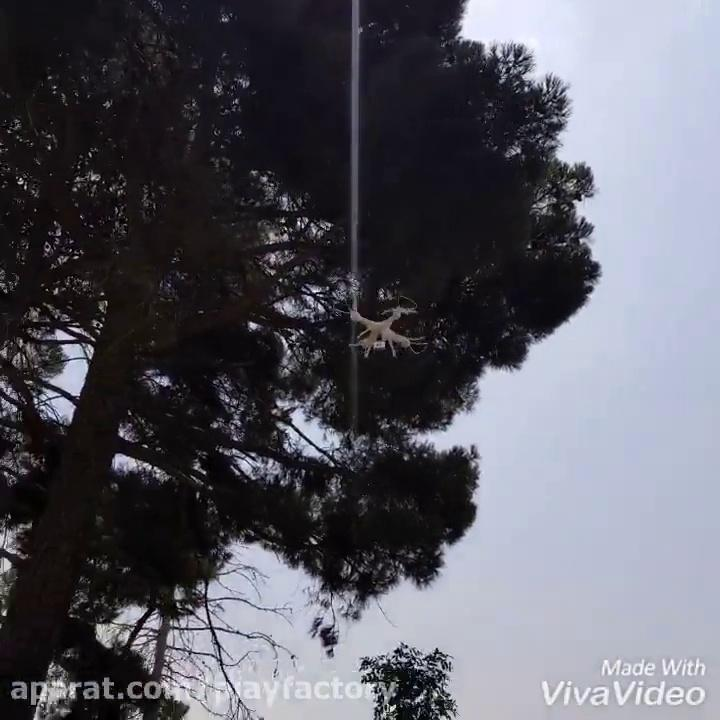drone: (341, 294, 429, 358)
